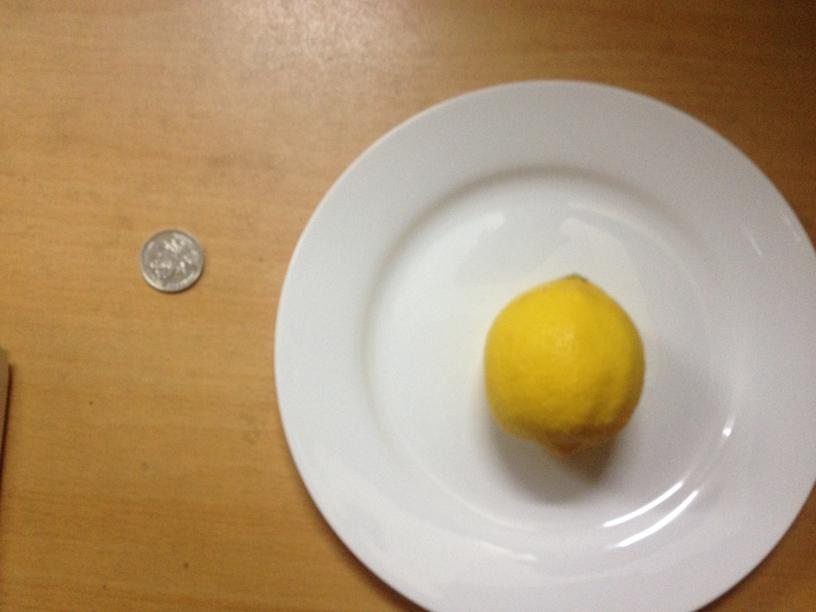coin: (142, 226, 202, 292)
lemon: (487, 272, 645, 451)
